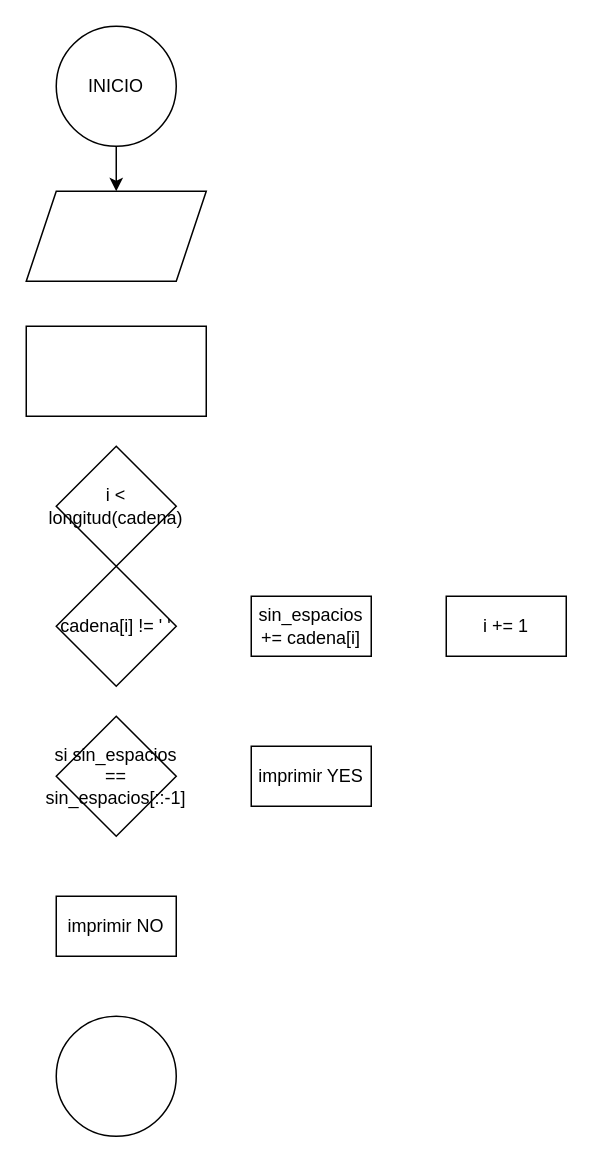
This 593x1163 diagram has some shape labels left out. Each missing label, with the centre of its shape:
FIN: (115,1075)
INPUT cadena: (115,235)
sin_espacios = '': (115,370)
